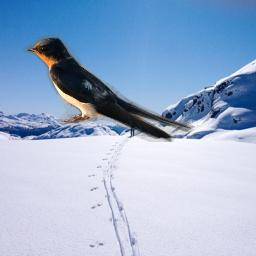Swallow: (22, 32, 195, 142)
